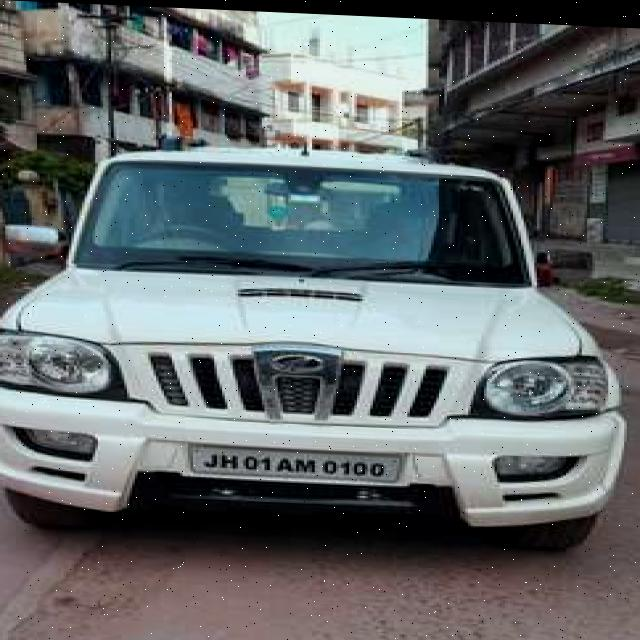plate: (189, 443, 400, 479)
